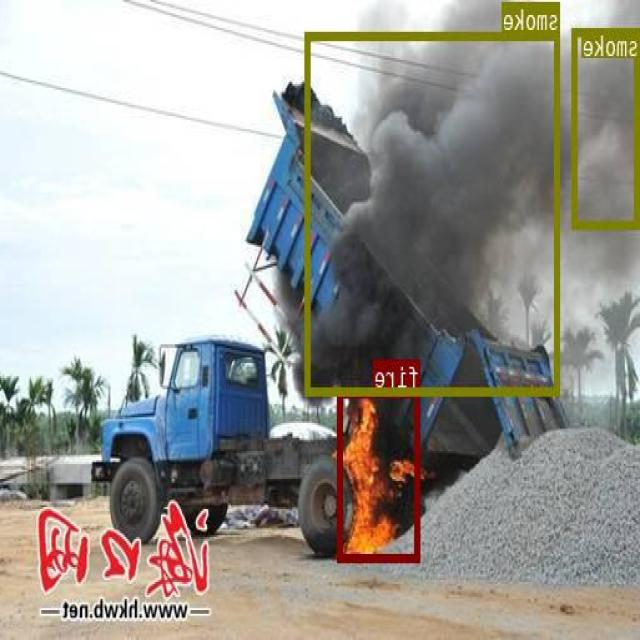fire: (338, 389, 422, 560)
smoke: (306, 31, 560, 394), (574, 28, 640, 228)
